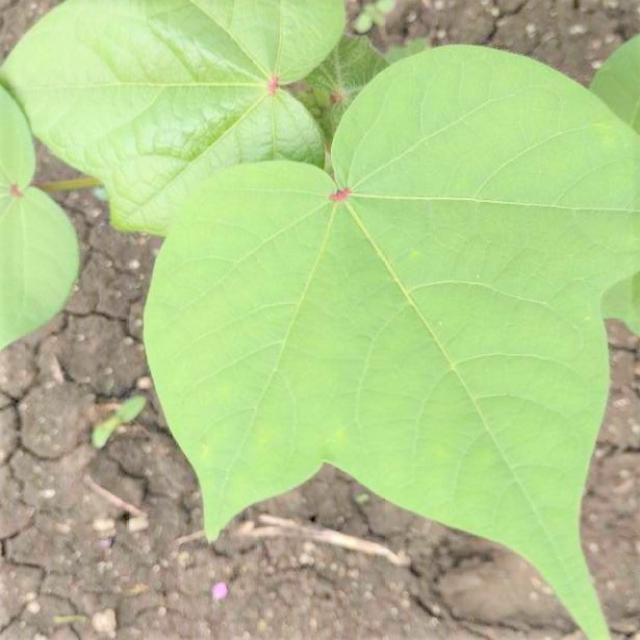Healthy Leaf: (74, 55, 640, 640)
